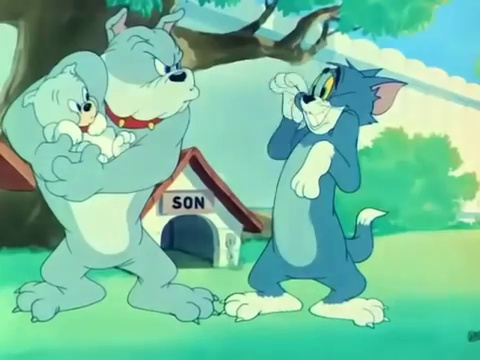spike: (95, 7, 204, 135)
tom: (292, 55, 411, 140)
